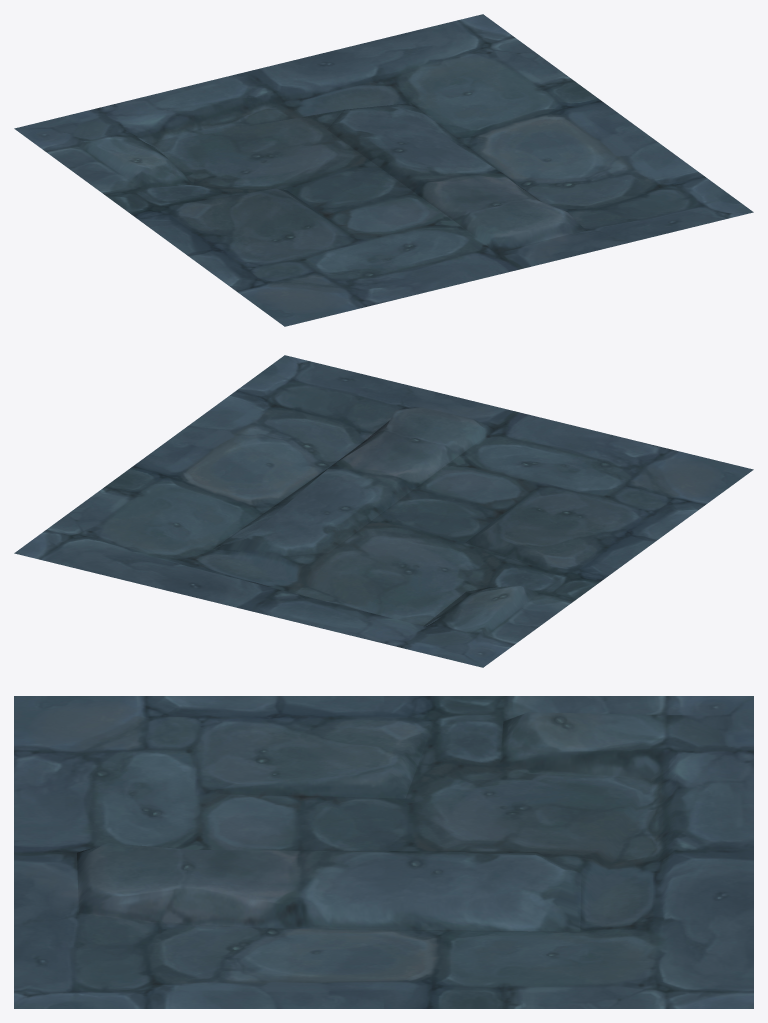
File: tile_02.fbx
3 views of the same model, one above another, from view 1: azimuth 30°, elevation 25°; view 2: azimuth 150°, elevation 25°; view 3: azimuth 270°, elevation 25° (orthographic). The views are drawn at different scales.
Parts seen in each view (by area): view 1: tile_02; view 2: tile_02; view 3: tile_02.
Part boxes in pixels (bbox=[...]): tile_02: bbox=[14, 14, 753, 326]; tile_02: bbox=[14, 355, 753, 667]; tile_02: bbox=[14, 696, 753, 1008].
Size of the model in its own units: 200 by 8.93 by 200.
